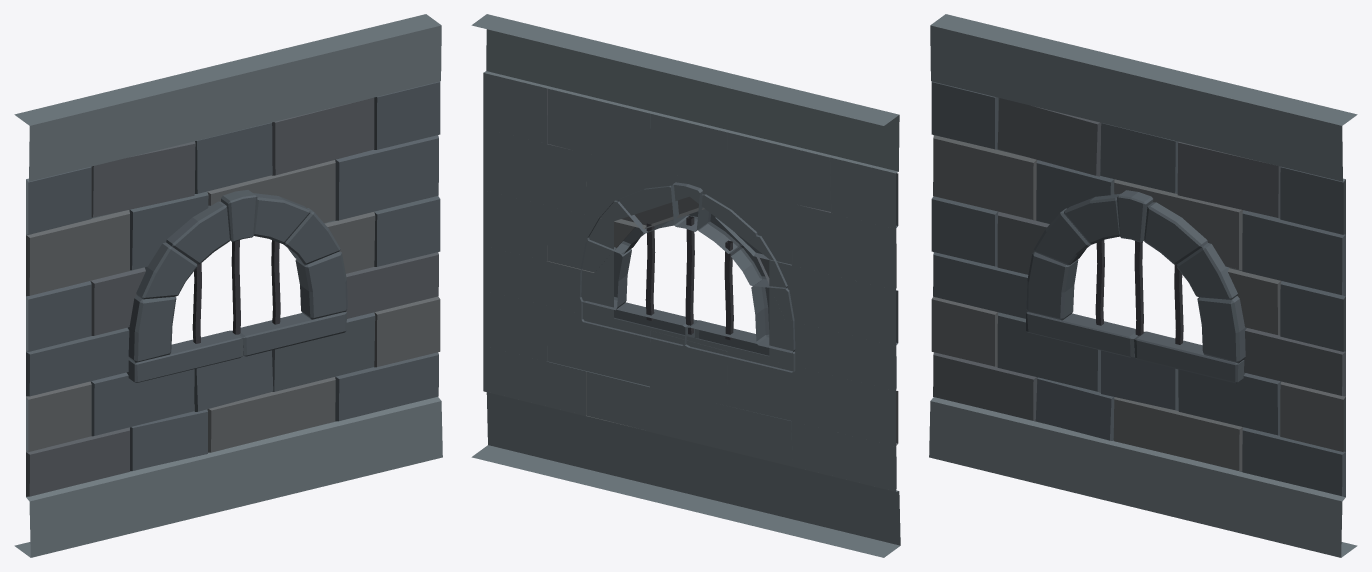
The model's file is Wall_Window_Bars.fbx.
3 views of the same model, side by side, from view 1: azimuth 30°, elevation 25°; view 2: azimuth 150°, elevation 25°; view 3: azimuth 330°, elevation 25° (orthographic).
Visible parts, largest first — view 1: Wall_Window_Bars; view 2: Wall_Window_Bars; view 3: Wall_Window_Bars.
Boxes of the visible parts, x1,y1,x2,y2 form: Wall_Window_Bars: [14, 14, 442, 557]; Wall_Window_Bars: [471, 14, 900, 557]; Wall_Window_Bars: [929, 14, 1357, 557].
Size of the model in its own units: 200 by 200 by 18.76.
